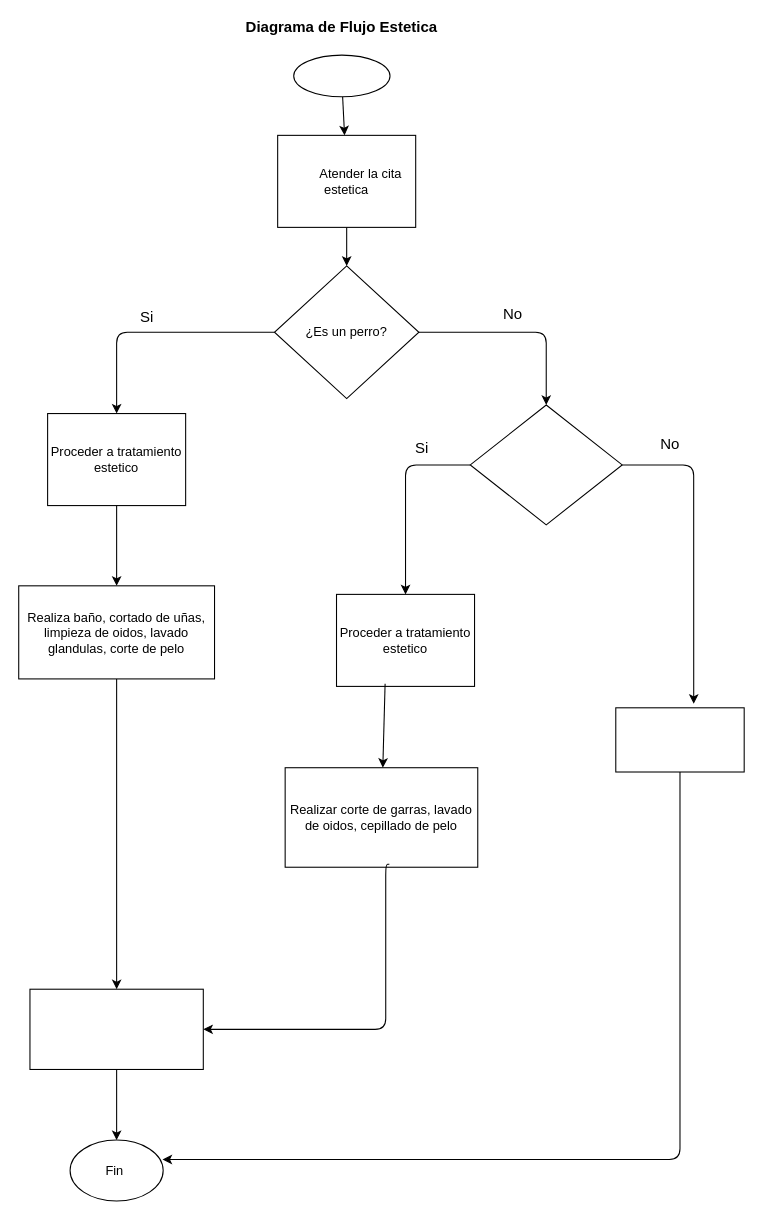
This 763x1220 diagram has some shape labels left out. Each missing label, with the centre of its shape:
"Inicio" belongs at (341,75).
"Recomendar productos para cuidado de piel y pelo" belongs at (116,1028).
"Si es otro tipo de mascota, no sera atendido de forma estetica" belongs at (679,739).
"¿Es un gato?" belongs at (545,464).
